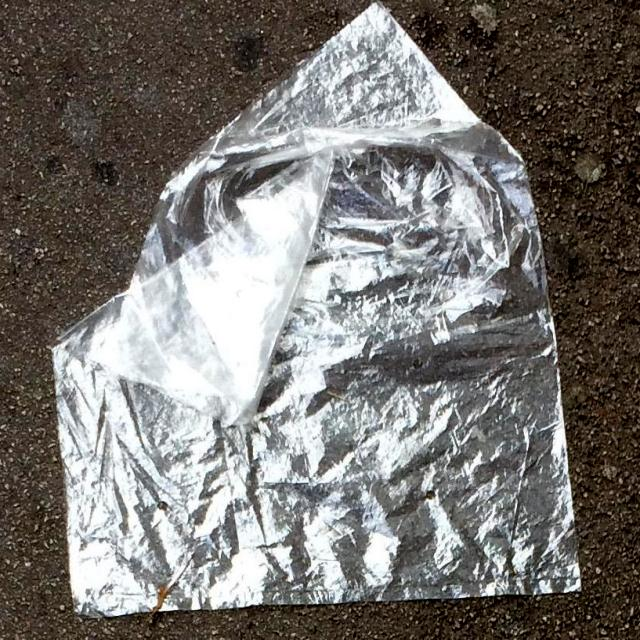Trash: (47, 0, 600, 635)
